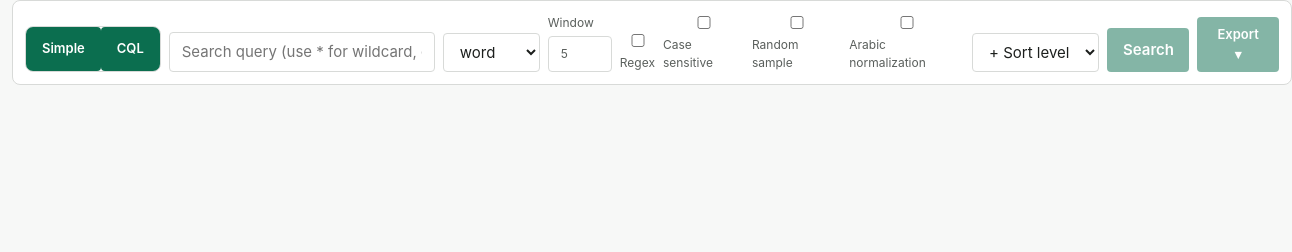
Test case: CQL error rendering › budget overrun 422 renders the actionable message
Click the button with class "mode-toggle-btn" showing "CQL". click: point(130, 49)
box: [101,27,160,71]
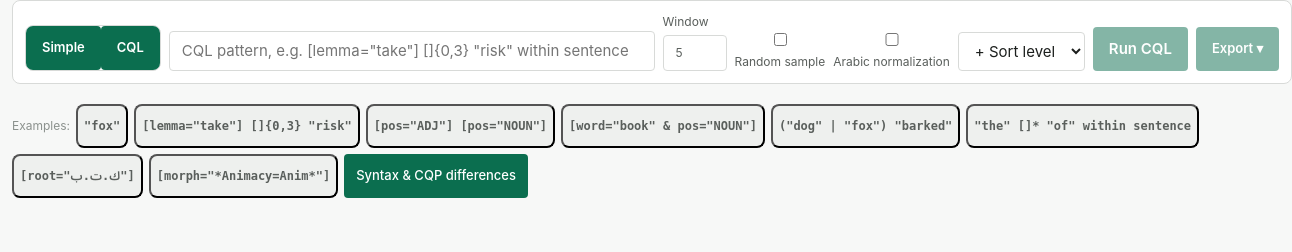
Replace the text in the field with class "search-input" with "\"the\" []* \"of\"". click: point(412, 51)
box: [169,30,655,71]
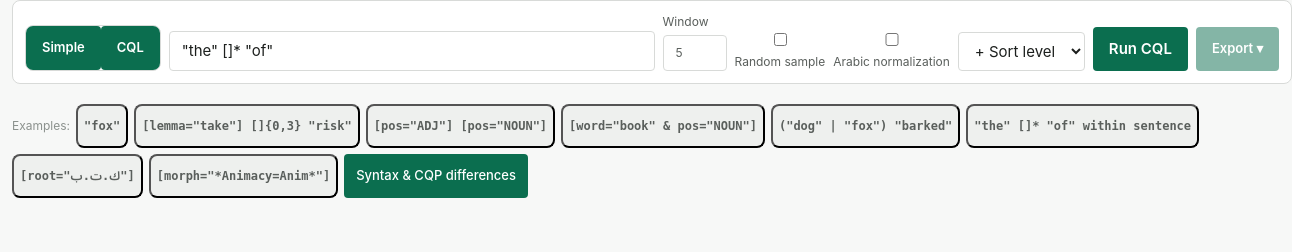
Click the button "Run CQL". click: point(1140, 49)
box: [1093,27,1188,71]
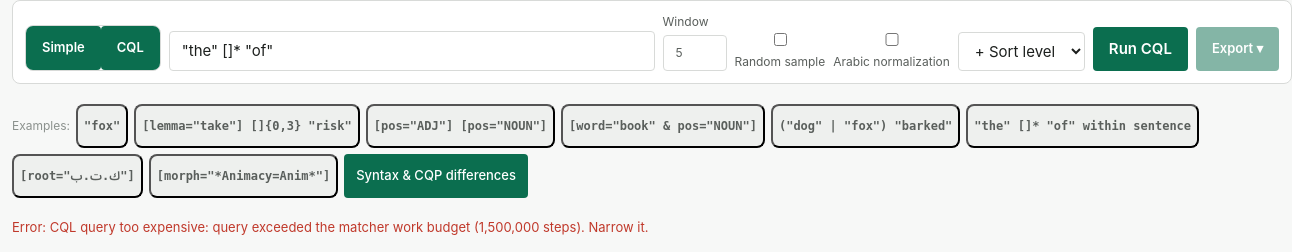
expect the message shows "work budget": met, box [50,219,648,235]
